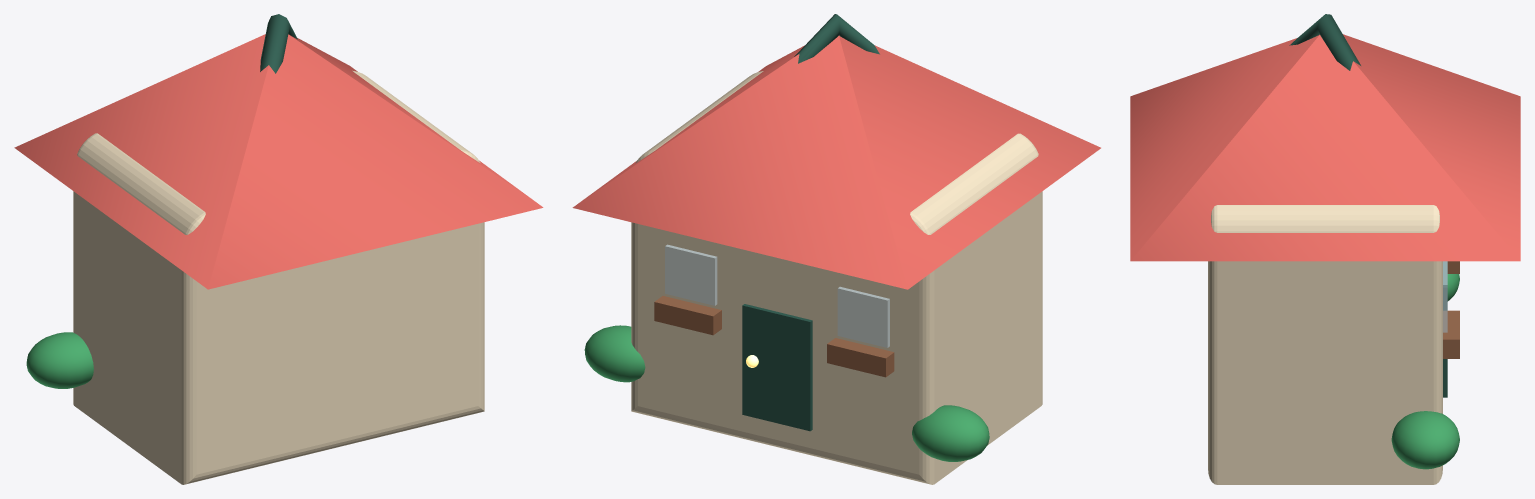
Rendered from house-kit.glb.
3 renders of one model, left to right at view 1: azimuth 30°, elevation 25°; view 2: azimuth 150°, elevation 25°; view 3: azimuth 270°, elevation 25°, orthographic.
Parts seen in each view (by area): view 1: HOUSE_BODY_WALL, HOUSE_ROOF_MAIN, HOUSE_SHRUB_L, HOUSE_ROOF_CAP; view 2: HOUSE_BODY_WALL, HOUSE_ROOF_MAIN, HOUSE_DOOR, HOUSE_SHRUB_L, HOUSE_WINDOW_R, HOUSE_WINDOW_L, HOUSE_SHRUB_R, HOUSE_PLANTER_R, HOUSE_PLANTER_L, HOUSE_ROOF_CAP; view 3: HOUSE_ROOF_MAIN, HOUSE_BODY_WALL, HOUSE_SHRUB_R, HOUSE_ROOF_CAP, HOUSE_PLANTER_R, HOUSE_DOOR.
Part boxes in pixels (x1=…): HOUSE_BODY_WALL: x1=73, y1=70, x2=484, y2=484; HOUSE_ROOF_MAIN: x1=14, y1=34, x2=543, y2=289; HOUSE_SHRUB_L: x1=26, y1=332, x2=93, y2=388; HOUSE_ROOF_CAP: x1=260, y1=14, x2=297, y2=73; HOUSE_BODY_WALL: x1=631, y1=71, x2=1042, y2=484; HOUSE_ROOF_MAIN: x1=572, y1=35, x2=1100, y2=289; HOUSE_DOOR: x1=742, y1=304, x2=812, y2=431; HOUSE_SHRUB_L: x1=912, y1=405, x2=989, y2=461; HOUSE_WINDOW_R: x1=665, y1=244, x2=717, y2=305; HOUSE_WINDOW_L: x1=837, y1=287, x2=889, y2=347; HOUSE_SHRUB_R: x1=584, y1=325, x2=645, y2=382; HOUSE_PLANTER_R: x1=654, y1=296, x2=721, y2=335; HOUSE_PLANTER_L: x1=827, y1=338, x2=894, y2=377; HOUSE_ROOF_CAP: x1=794, y1=14, x2=879, y2=63; HOUSE_ROOF_MAIN: x1=1130, y1=34, x2=1520, y2=261; HOUSE_BODY_WALL: x1=1208, y1=205, x2=1442, y2=484; HOUSE_SHRUB_R: x1=1391, y1=411, x2=1459, y2=469; HOUSE_ROOF_CAP: x1=1289, y1=14, x2=1360, y2=70; HOUSE_PLANTER_R: x1=1443, y1=310, x2=1459, y2=358; HOUSE_DOOR: x1=1443, y1=261, x2=1447, y2=397.
Bounding box in the file's own units: 1.75 × 1.66 × 1.48.
